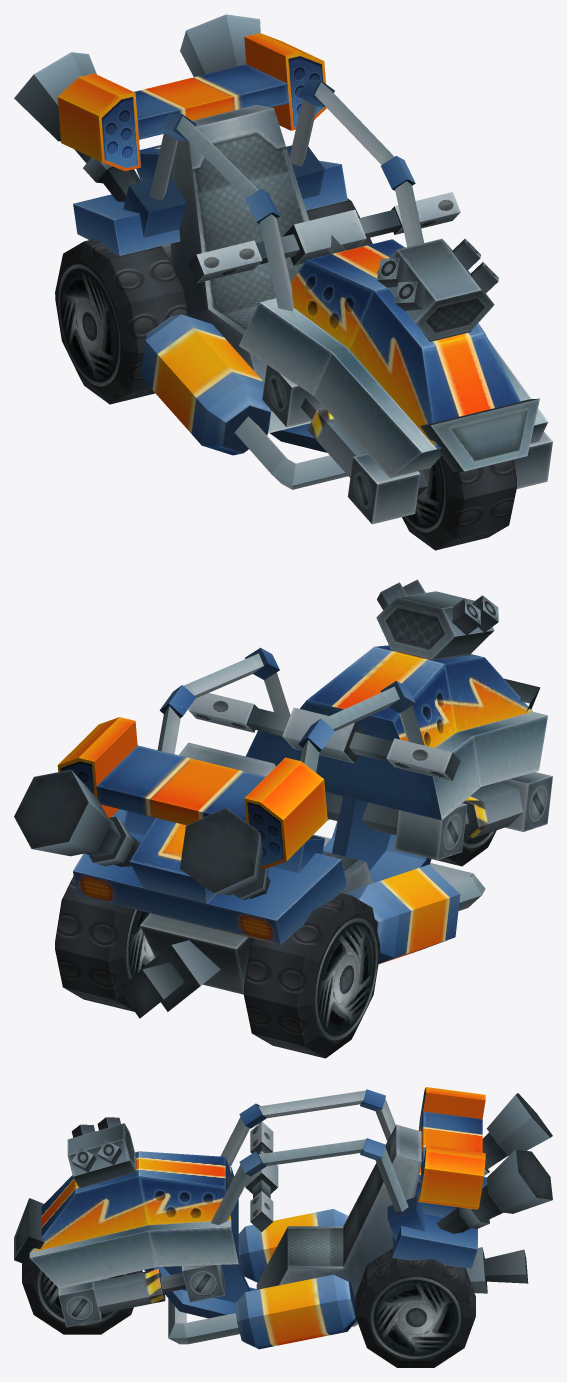
Rendered from Phineas_AI.glb.
3 renders of one model, top to bottom at view 1: azimuth 30°, elevation 25°; view 2: azimuth 150°, elevation 25°; view 3: azimuth 270°, elevation 25°, orthographic. The views are drawn at different scales.
Parts seen in each view (by area): view 1: kart_phineas, right_weel, front_wheel; view 2: kart_phineas, right_weel, left_wheel, front_wheel; view 3: kart_phineas, left_wheel, front_wheel.
Boxes of the visible parts, x1=… form: kart_phineas: x1=14, y1=14, x2=552, y2=524; right_weel: x1=55, y1=238, x2=188, y2=404; front_wheel: x1=402, y1=456, x2=516, y2=550; kart_phineas: x1=14, y1=579, x2=552, y2=1018; right_weel: x1=243, y1=893, x2=380, y2=1058; left_wheel: x1=55, y1=876, x2=155, y2=1011; front_wheel: x1=432, y1=830, x2=496, y2=866; kart_phineas: x1=14, y1=1087, x2=552, y2=1349; left_wheel: x1=355, y1=1248, x2=475, y2=1367; front_wheel: x1=22, y1=1261, x2=142, y2=1334.
Size of the model in its own units: 1.89 by 2.06 by 4.75.
1 material, 1 textured.
